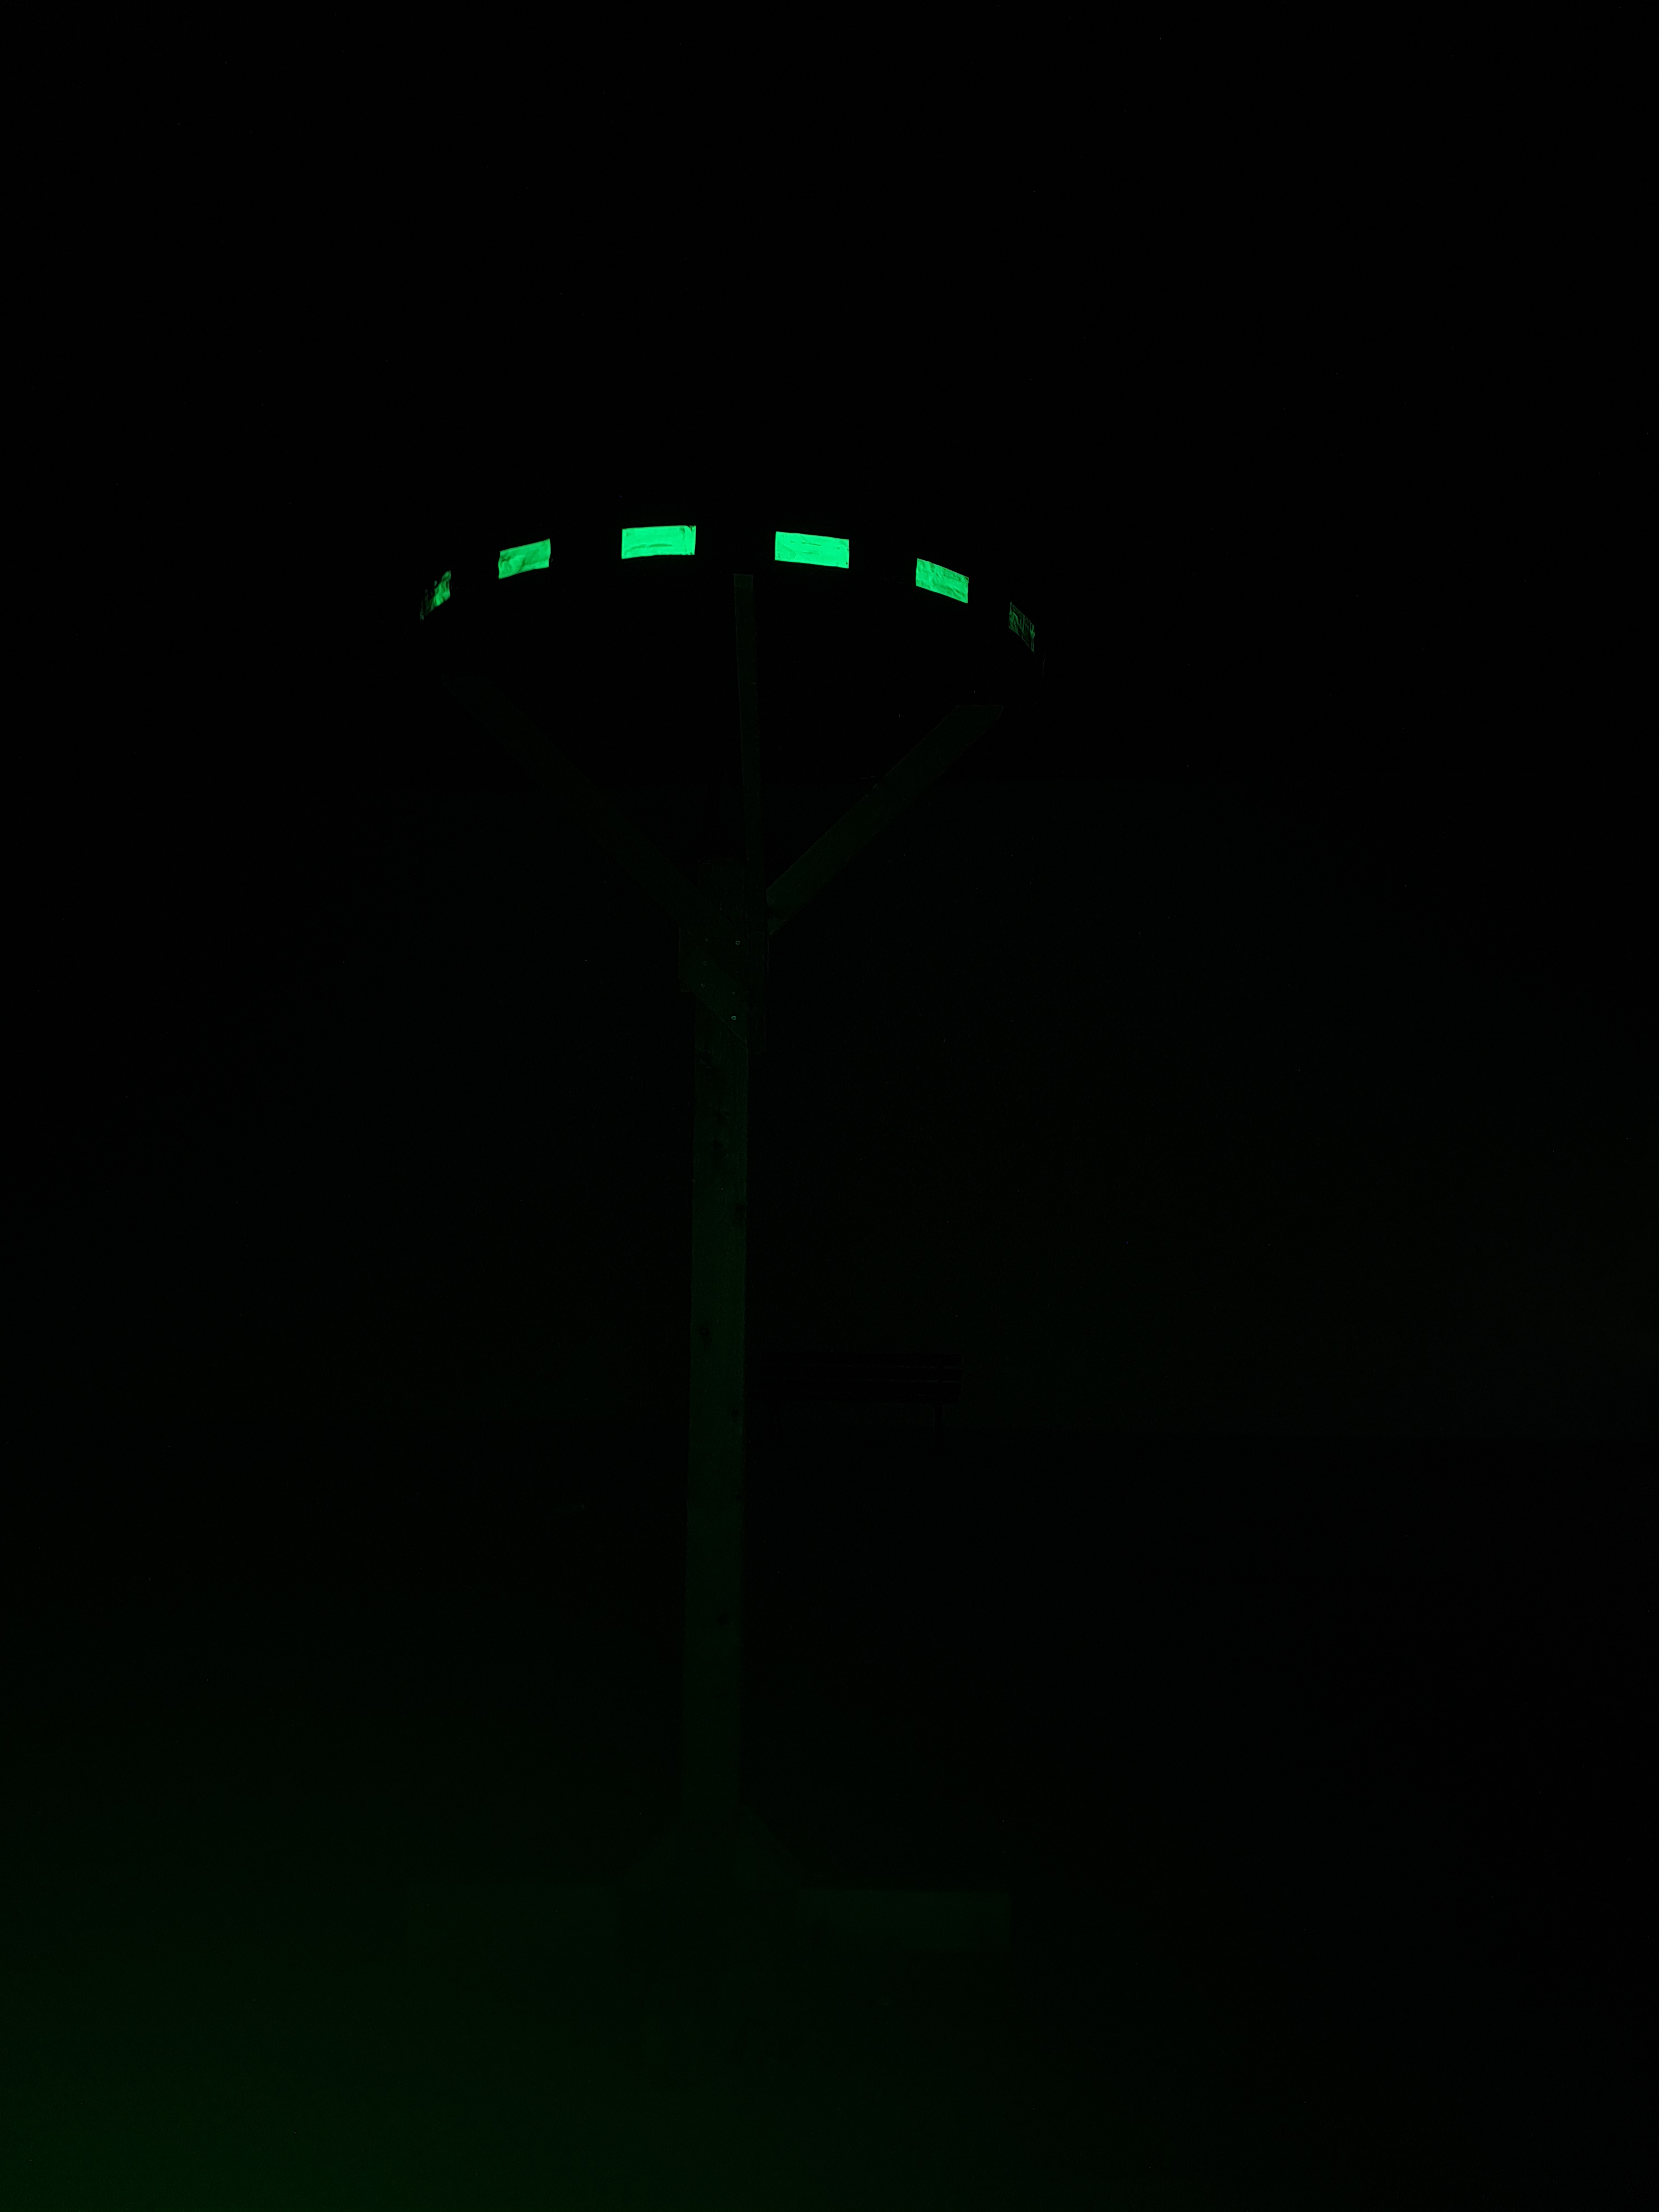hoop: (422, 521, 1039, 665)
